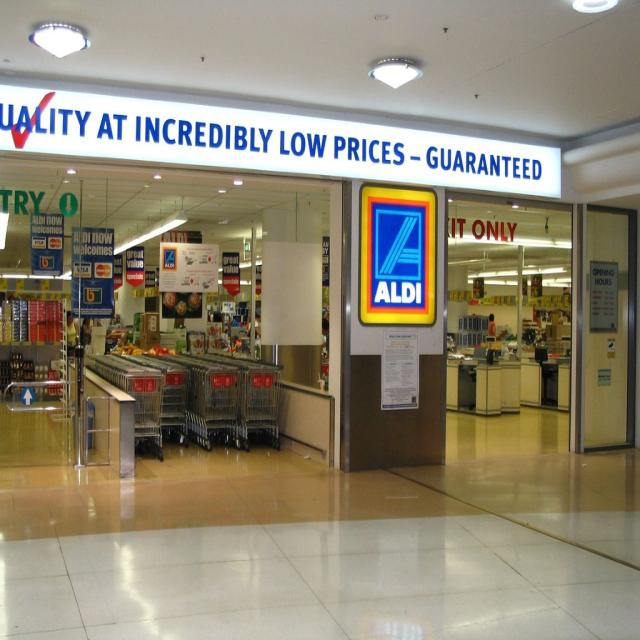aldi: (361, 187, 436, 325), (162, 248, 178, 271)
